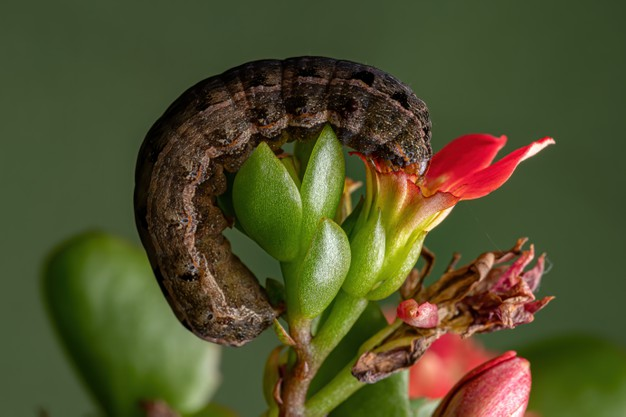Armyworm: (121, 48, 433, 348)
